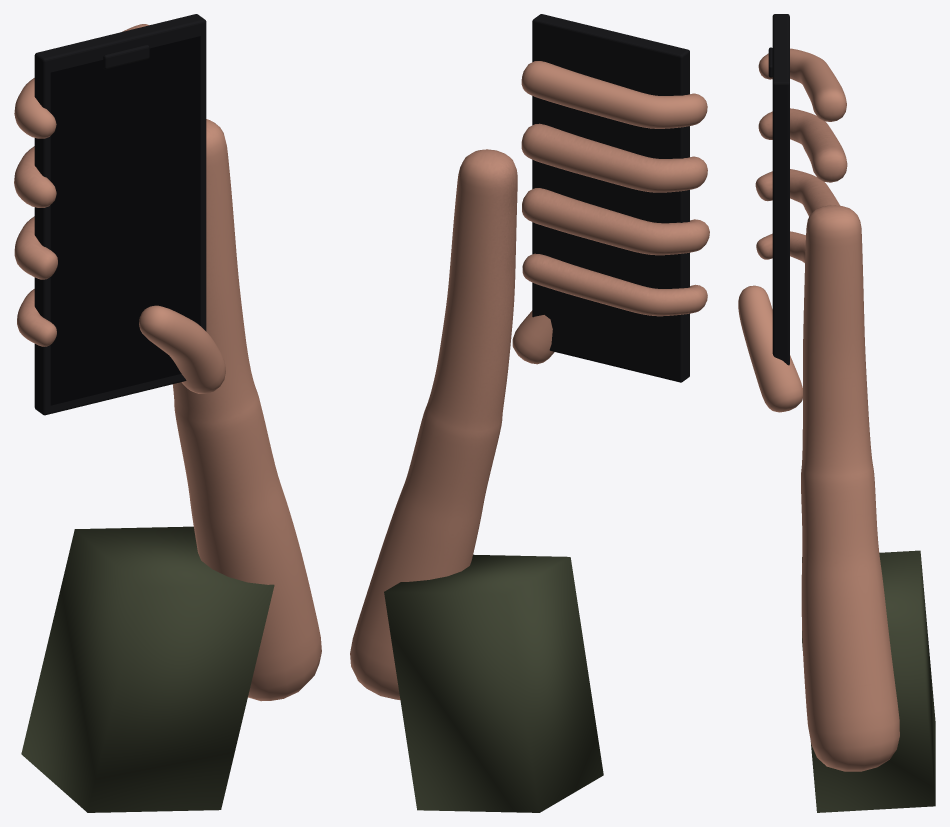
Rendered from hand_handy.glb.
3 renders of one model, left to right at view 1: azimuth 30°, elevation 25°; view 2: azimuth 150°, elevation 25°; view 3: azimuth 270°, elevation 25°, orthographic. The views are drawn at different scales.
Visible parts, largest first — view 1: hand, bildschirm, handy, daumen; view 2: hand, handy, daumen; view 3: hand, handy, daumen.
Boxes of the visible parts, <box> form: hand: <box>14,24,321,812</box>; bildschirm: <box>50,36,200,405</box>; handy: <box>34,14,206,415</box>; daumen: <box>139,305,225,393</box>; hand: <box>350,61,709,812</box>; handy: <box>532,14,689,382</box>; daumen: <box>512,310,554,364</box>; hand: <box>755,48,935,812</box>; handy: <box>768,14,789,365</box>; daumen: <box>738,285,802,412</box>.
Bounding box in the file's own units: 0.1482 × 0.344 × 0.0863.
Materials: 5 (2 with a texture image).
